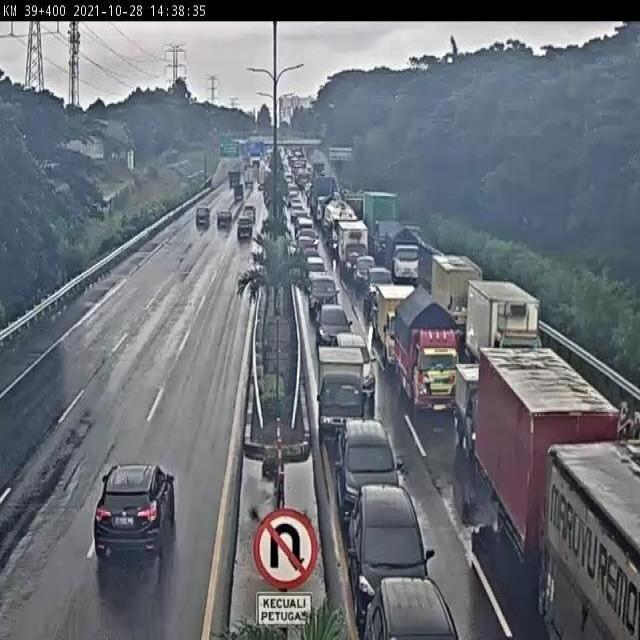Car: (93, 462, 177, 568), (334, 422, 403, 526), (361, 576, 463, 640), (316, 302, 354, 348), (308, 274, 340, 319), (364, 265, 394, 308), (304, 254, 328, 284), (291, 210, 310, 236), (216, 209, 232, 230), (298, 166, 312, 189), (196, 206, 210, 227), (288, 190, 302, 210), (244, 165, 256, 187), (292, 148, 305, 164), (284, 176, 294, 196), (233, 183, 244, 201), (312, 162, 324, 177), (242, 154, 251, 173), (258, 181, 264, 190)
Truck: (549, 402, 640, 640), (474, 316, 604, 473), (399, 288, 479, 427), (465, 279, 541, 364), (429, 253, 482, 340)
